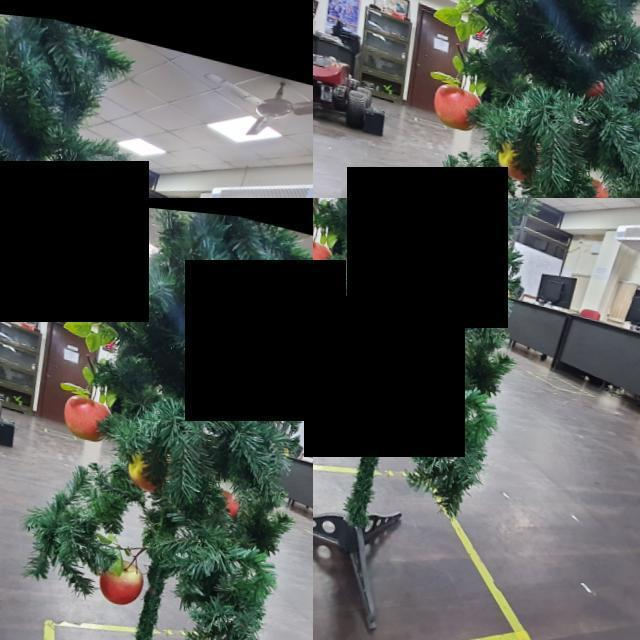tree: (76, 199, 313, 640), (313, 198, 552, 614), (474, 0, 640, 198), (0, 0, 95, 198)
